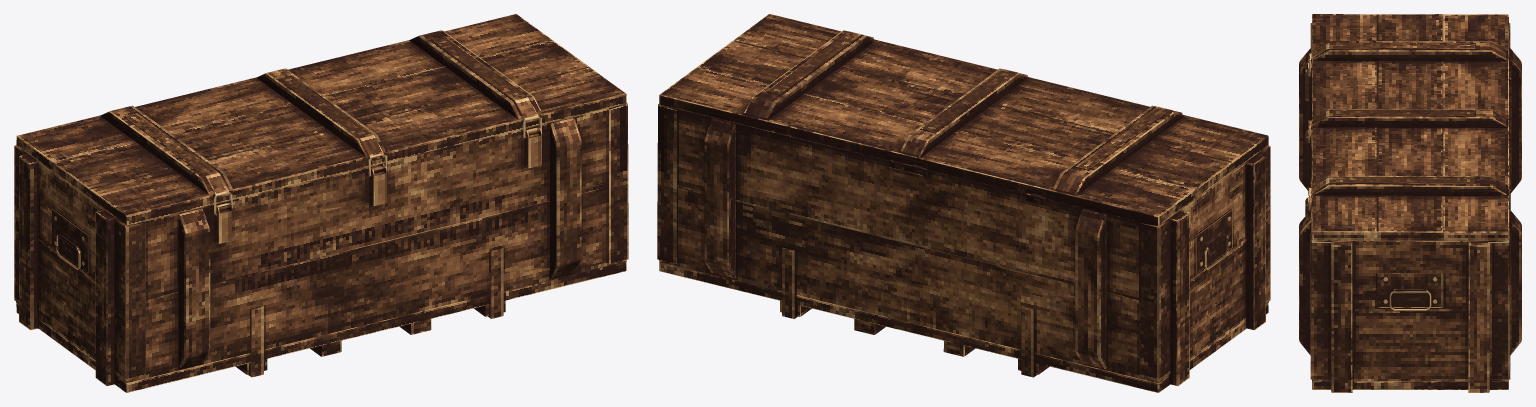
File: wooden_military_crate.glb
3 renders of one model, left to right at view 1: azimuth 30°, elevation 25°; view 2: azimuth 150°, elevation 25°; view 3: azimuth 270°, elevation 25°, orthographic. The views are drawn at different scales.
Parts seen in each view (by area): view 1: body; view 2: body; view 3: body.
Part boxes in pixels (x1,y1,x2,y2): body: (14,14,628,392); body: (657,14,1270,392); body: (1299,14,1521,392).
Size of the model in its own units: 1.24 by 0.4648 by 0.5203.
Materials: 1 (1 with a texture image).
